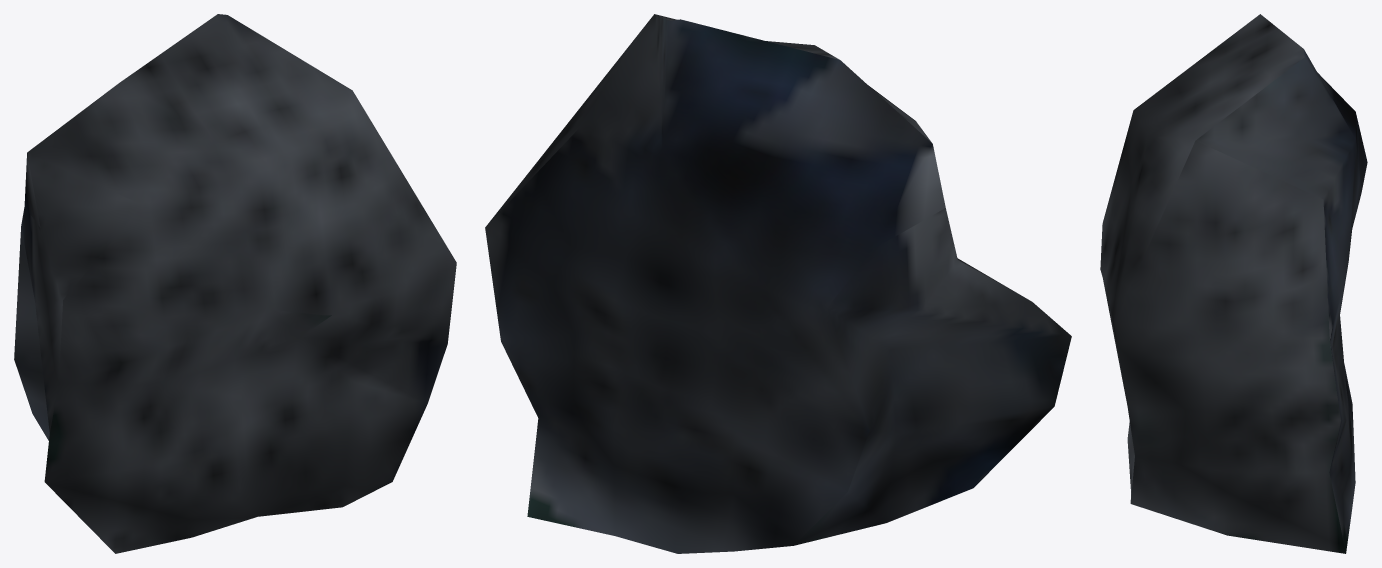
Rendered from FluoritaPedra.fbx.
3 renders of one model, left to right at view 1: azimuth 30°, elevation 25°; view 2: azimuth 150°, elevation 25°; view 3: azimuth 270°, elevation 25°, orthographic. The views are drawn at different scales.
Visible parts, largest first — view 1: MinerioFluoritaPelado; view 2: MinerioFluoritaPelado; view 3: MinerioFluoritaPelado.
Part boxes in pixels (<box>): MinerioFluoritaPelado: <box>14,14,456,553</box>; MinerioFluoritaPelado: <box>485,14,1071,553</box>; MinerioFluoritaPelado: <box>1100,14,1367,553</box>.
Bounding box in the file's own units: 578 × 601 × 324.
